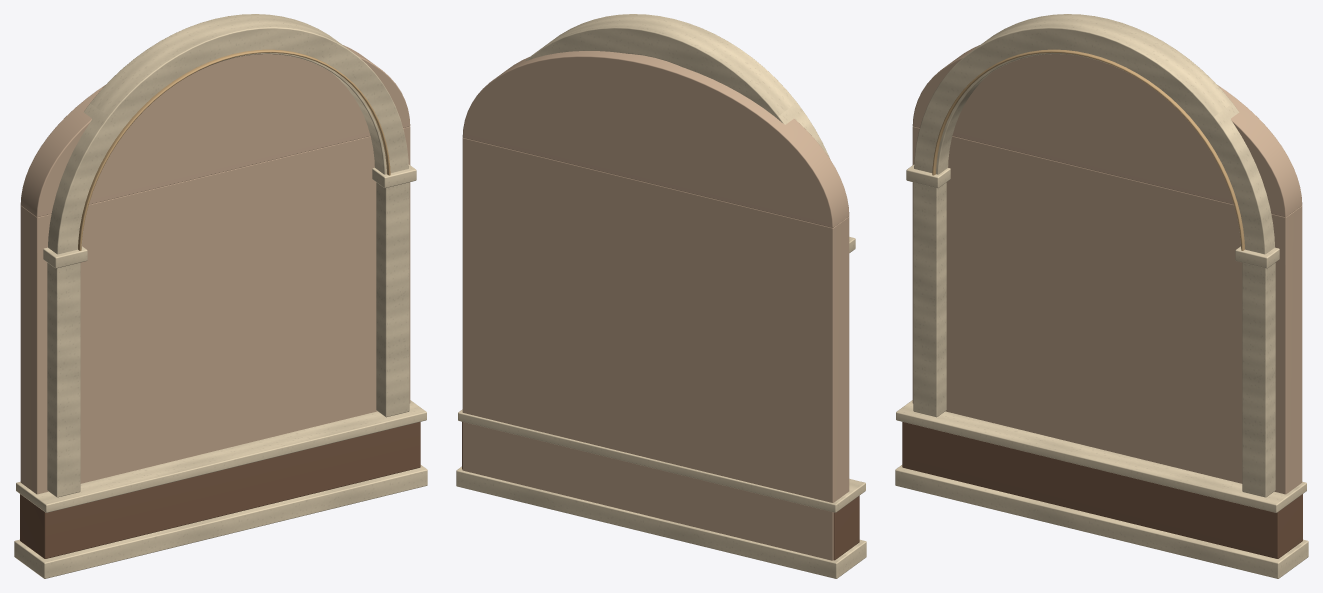
File: golden-loggia.glb
3 views of the same model, side by side, from view 1: azimuth 30°, elevation 25°; view 2: azimuth 150°, elevation 25°; view 3: azimuth 330°, elevation 25° (orthographic).
Parts seen in each view (by area): view 1: Joinery.064; view 2: Joinery.064; view 3: Joinery.064.
Part boxes in pixels (x1,y1,x2,y2): Joinery.064: (14, 14, 427, 578); Joinery.064: (456, 14, 866, 578); Joinery.064: (895, 14, 1308, 578).
Size of the model in its own units: 4.62 by 5.73 by 0.65.
4 materials, 1 textured.
